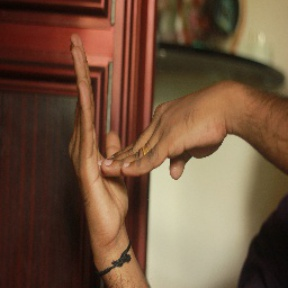Z: (62, 24, 230, 239)
